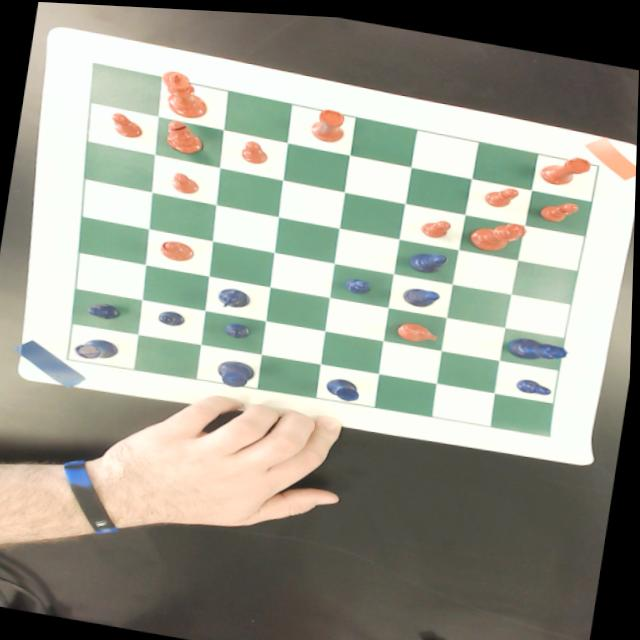B: (407, 244, 447, 270), (401, 281, 442, 305)
K: (216, 355, 257, 387)
N: (212, 281, 256, 308)
P: (515, 370, 555, 392), (86, 299, 124, 320), (343, 272, 373, 292), (156, 306, 187, 325), (223, 318, 253, 337)
Q: (508, 330, 570, 359)
R: (74, 333, 121, 364), (325, 372, 363, 400)
b: (160, 116, 205, 155), (157, 236, 196, 261)
k: (155, 67, 212, 119)
n: (395, 314, 441, 341)
p: (537, 190, 581, 220), (106, 109, 145, 139), (483, 177, 519, 205), (239, 136, 271, 163), (419, 211, 452, 236), (168, 169, 201, 194)
q: (468, 211, 527, 251)
r: (538, 145, 593, 184), (307, 103, 348, 140)
